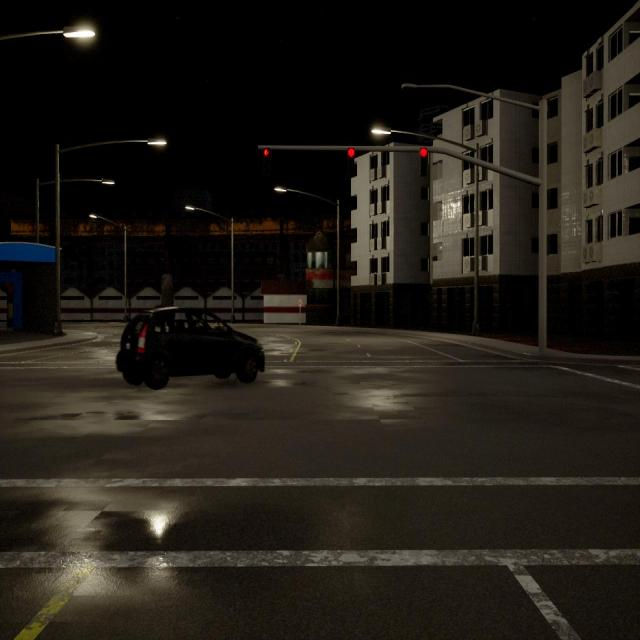Traffic_Signs: (297, 300, 303, 306)
Vehicle: (116, 307, 264, 389)
traffic_light: (420, 148, 427, 176), (348, 148, 354, 176), (263, 148, 269, 170)
